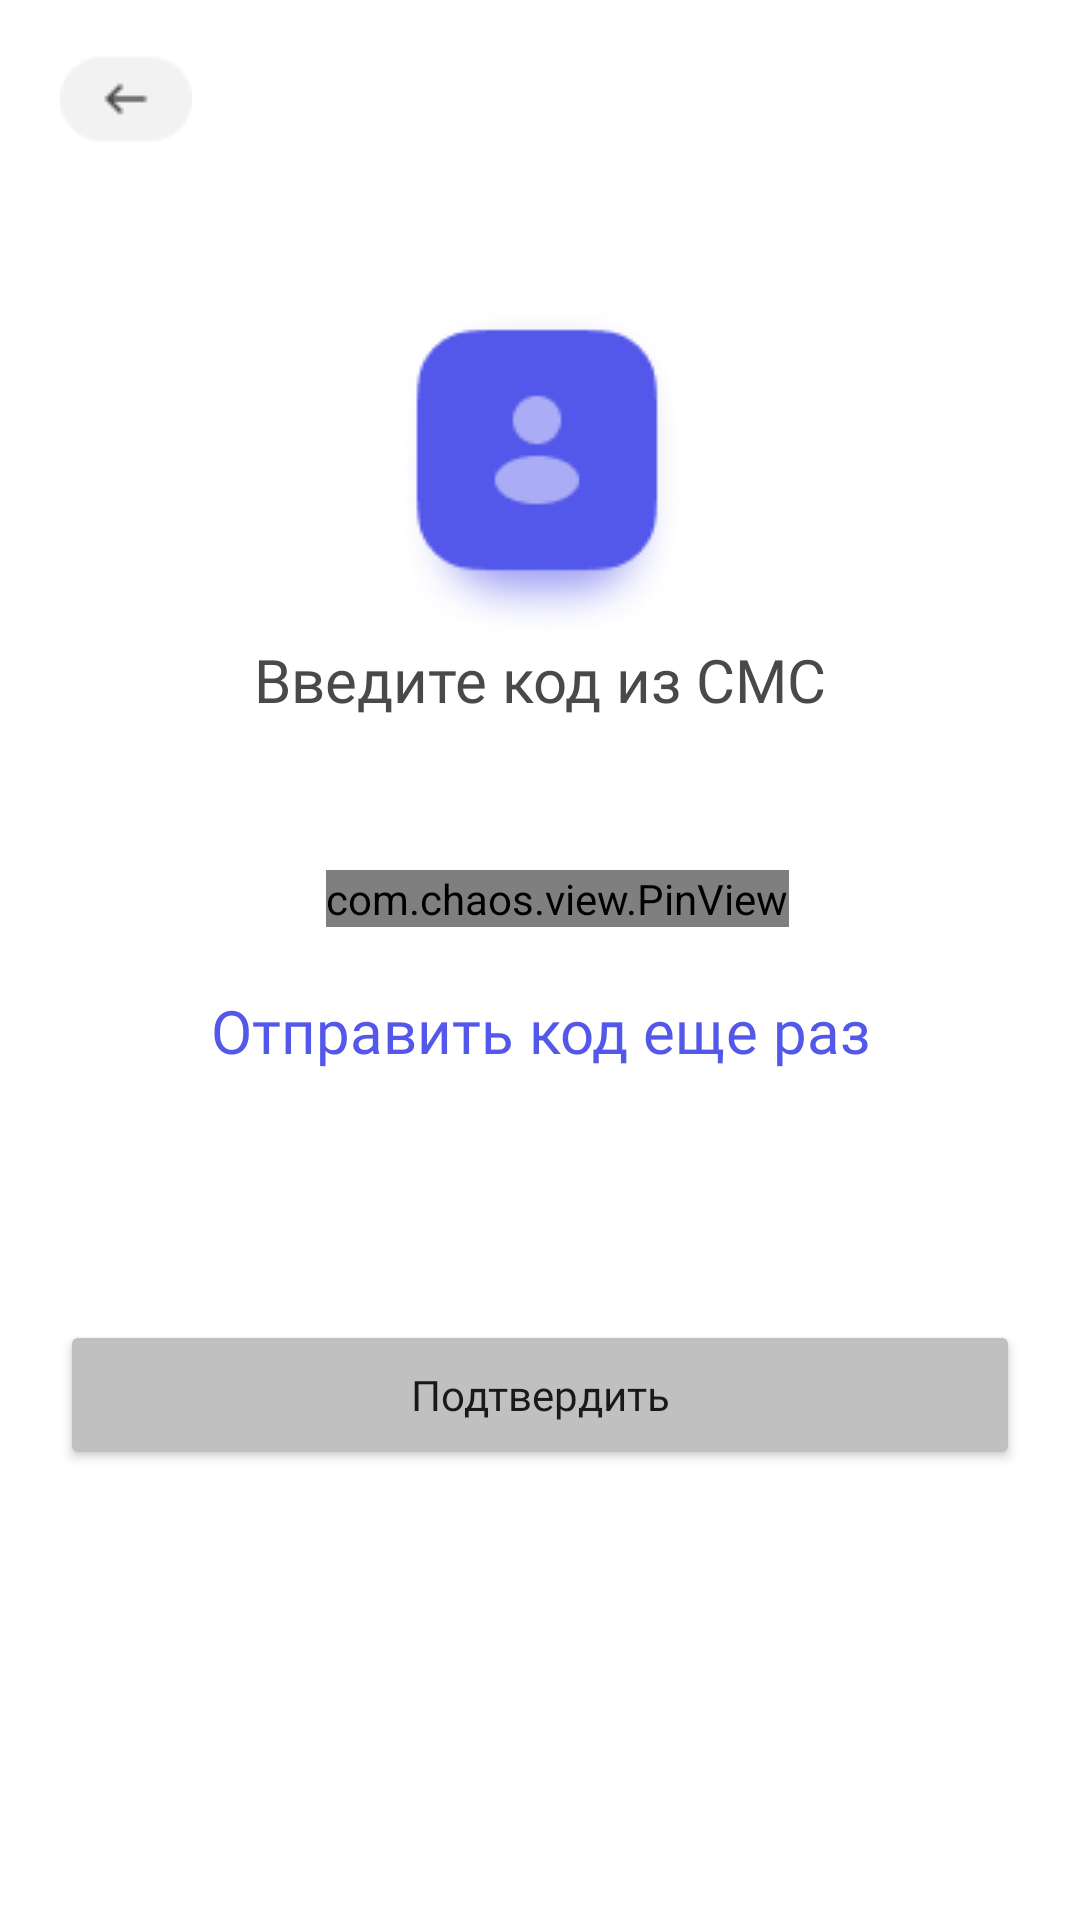

Icon bounding boxes for this 1080px×1920px phone screenshot, format (left=x1, top=y1, right=x2, bottom=y2):
back: (left=60, top=57, right=192, bottom=141)
